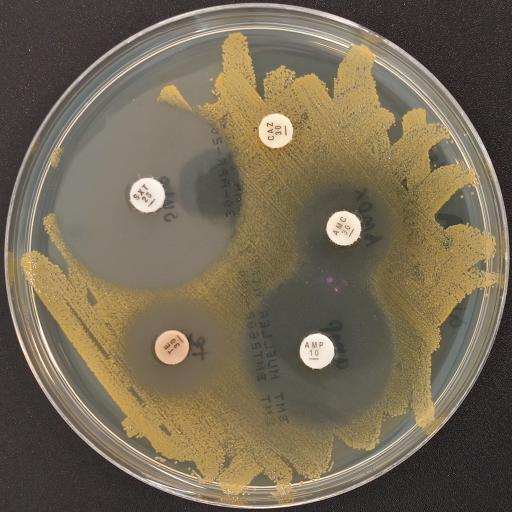disc: (128, 177, 166, 213), (257, 112, 294, 148), (154, 329, 190, 365), (299, 333, 335, 369), (326, 210, 362, 246)
